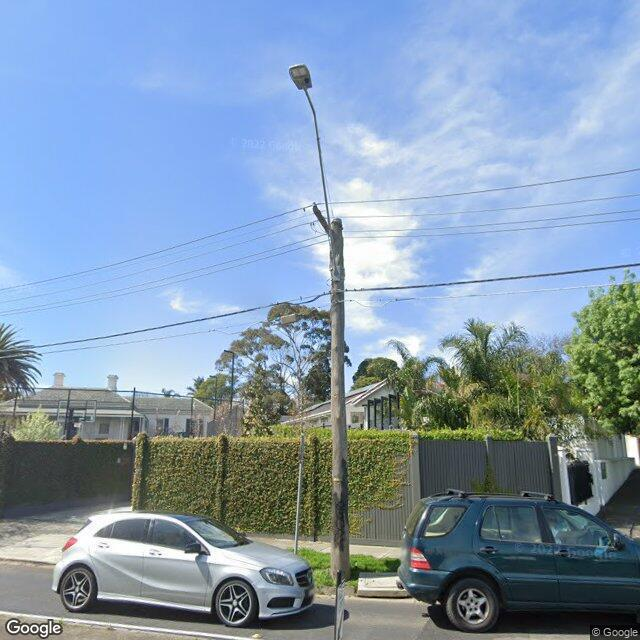crossarm: (312, 205, 330, 235)
streetlight: (288, 64, 341, 281)
timber-pole: (329, 219, 350, 581)
